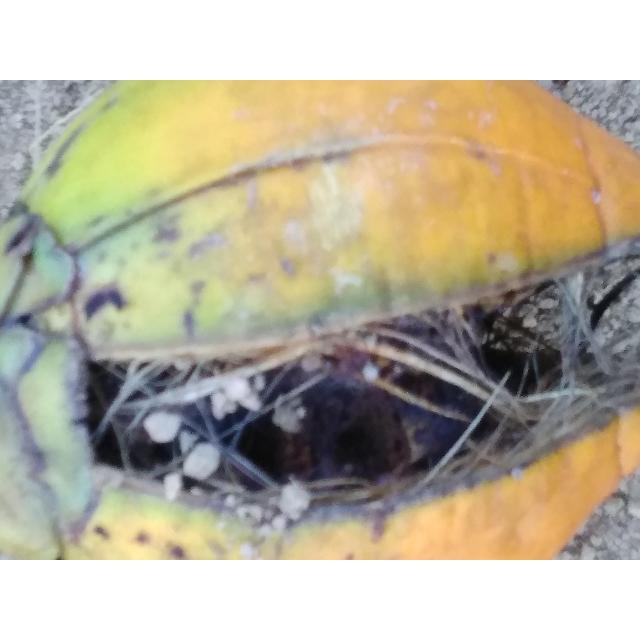damaged: (0, 80, 640, 560)
